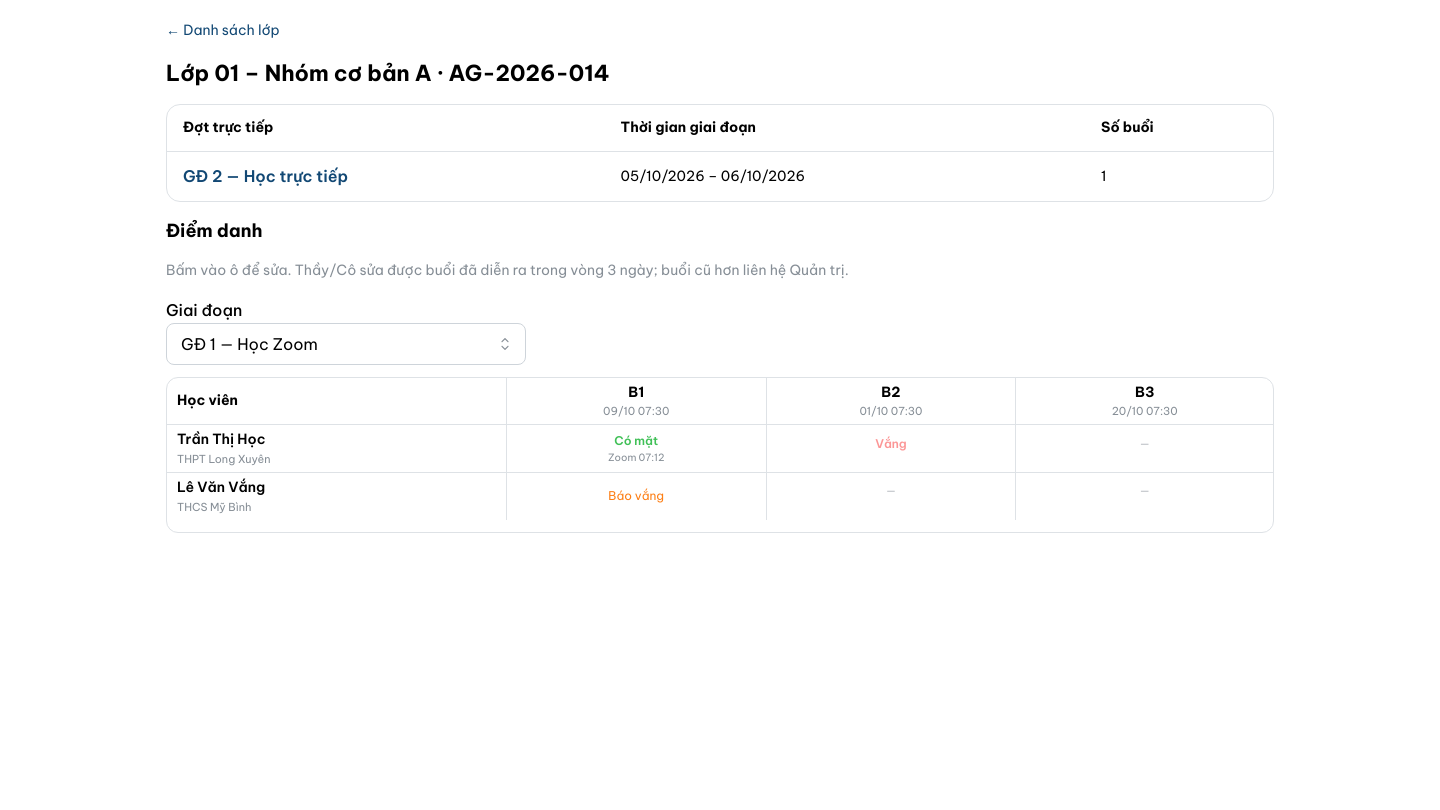
Test: Hỗ trợ GV — bảng điểm danh lớp › sửa ô có báo vắng: mặc định "Vắng có phép", lưu kèm ghi chú → thông báo + ô hiện "sửa tay"
Click the button with aria-label "Sửa điểm danh Lê Văn Vắng buổi 1".
click(636, 496)  # box x1=509 y1=478 x2=764 y2=514
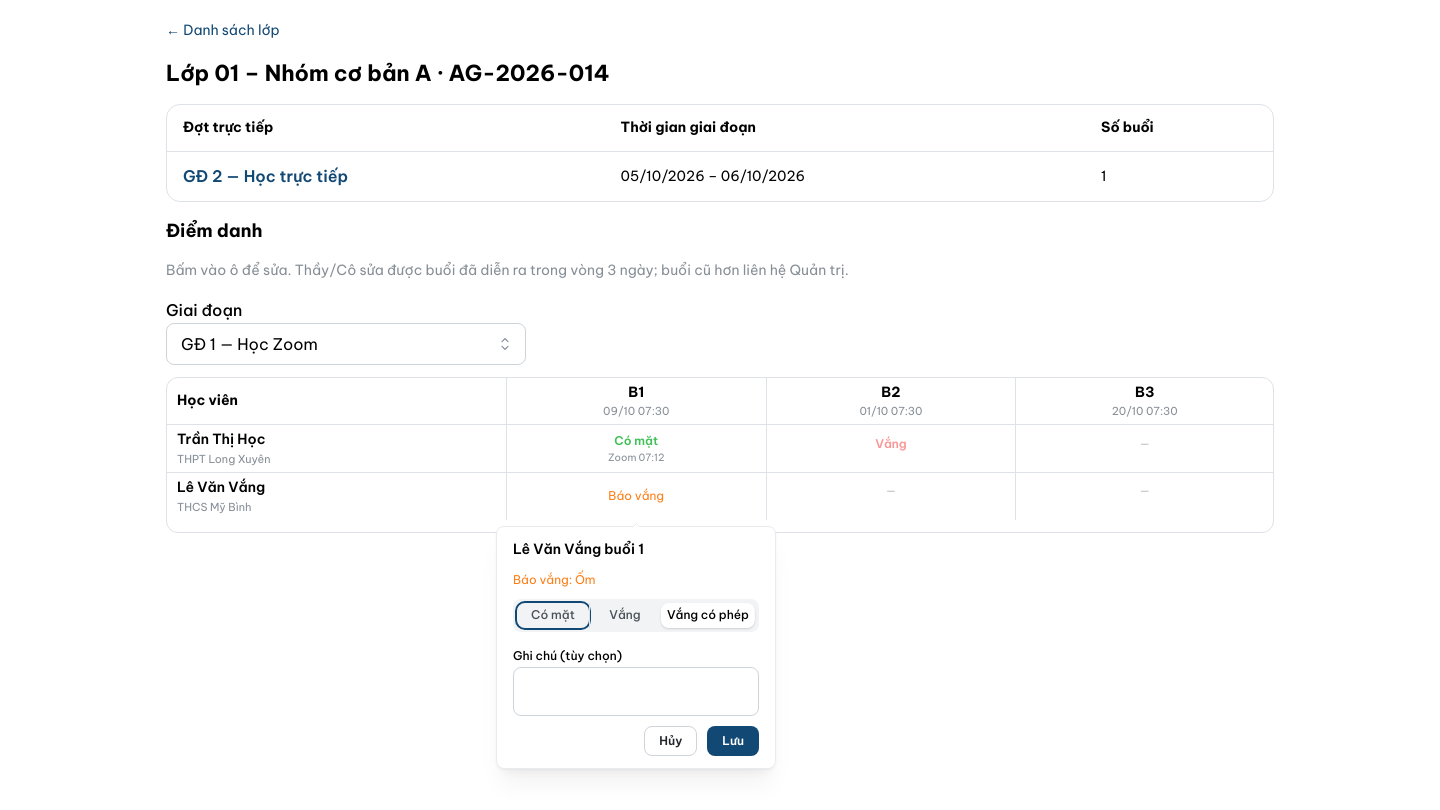
Result: the radio button labelled "Vắng có phép" is checked at x1=661 y1=603 x2=755 y2=628
Type "Có giấy phép" into the text box labelled "Ghi chú (tùy chọn)".
click(636, 691); type("Có giấy phép")  # box x1=513 y1=666 x2=759 y2=716
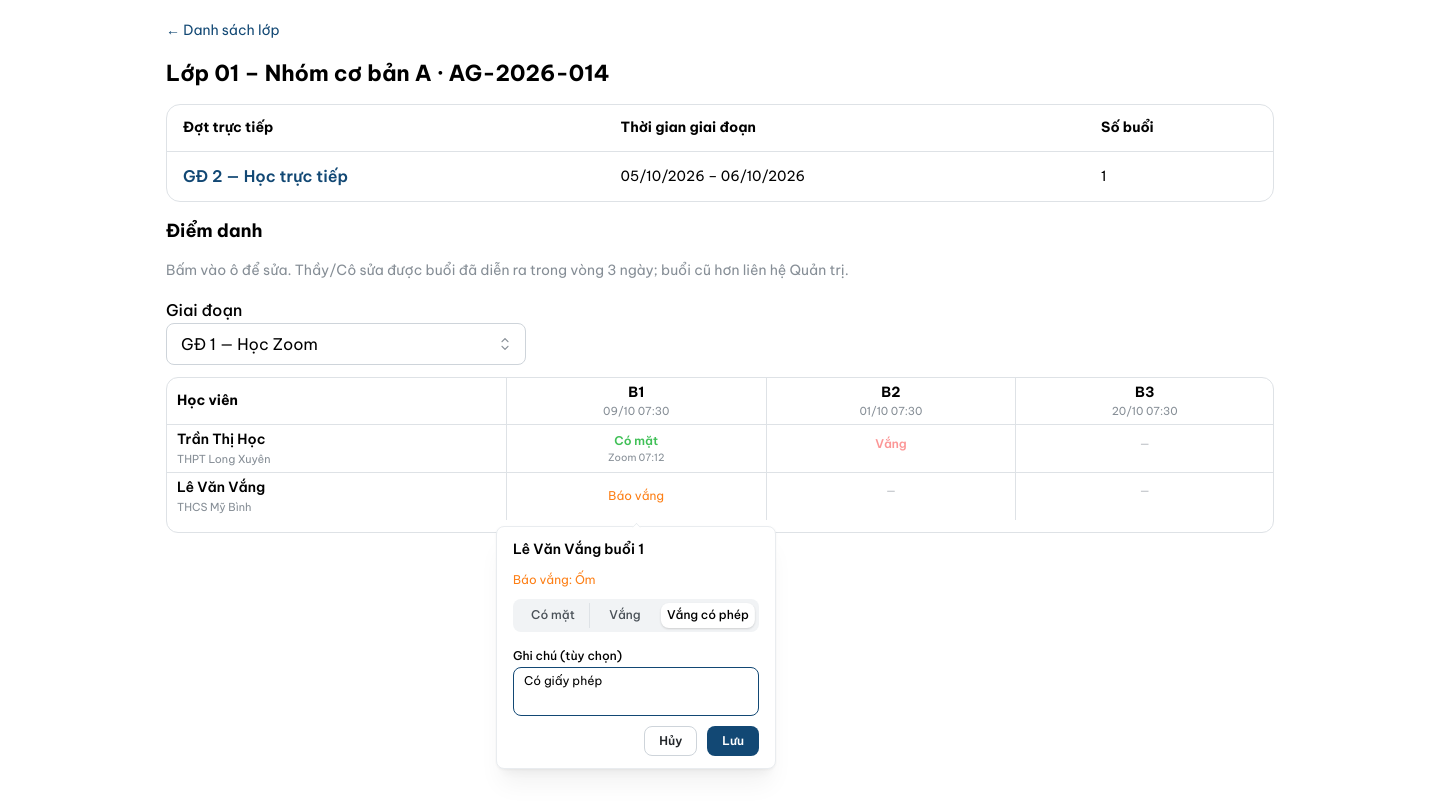
Click the button "Lưu".
click(733, 740)  # box x1=708 y1=726 x2=759 y2=756
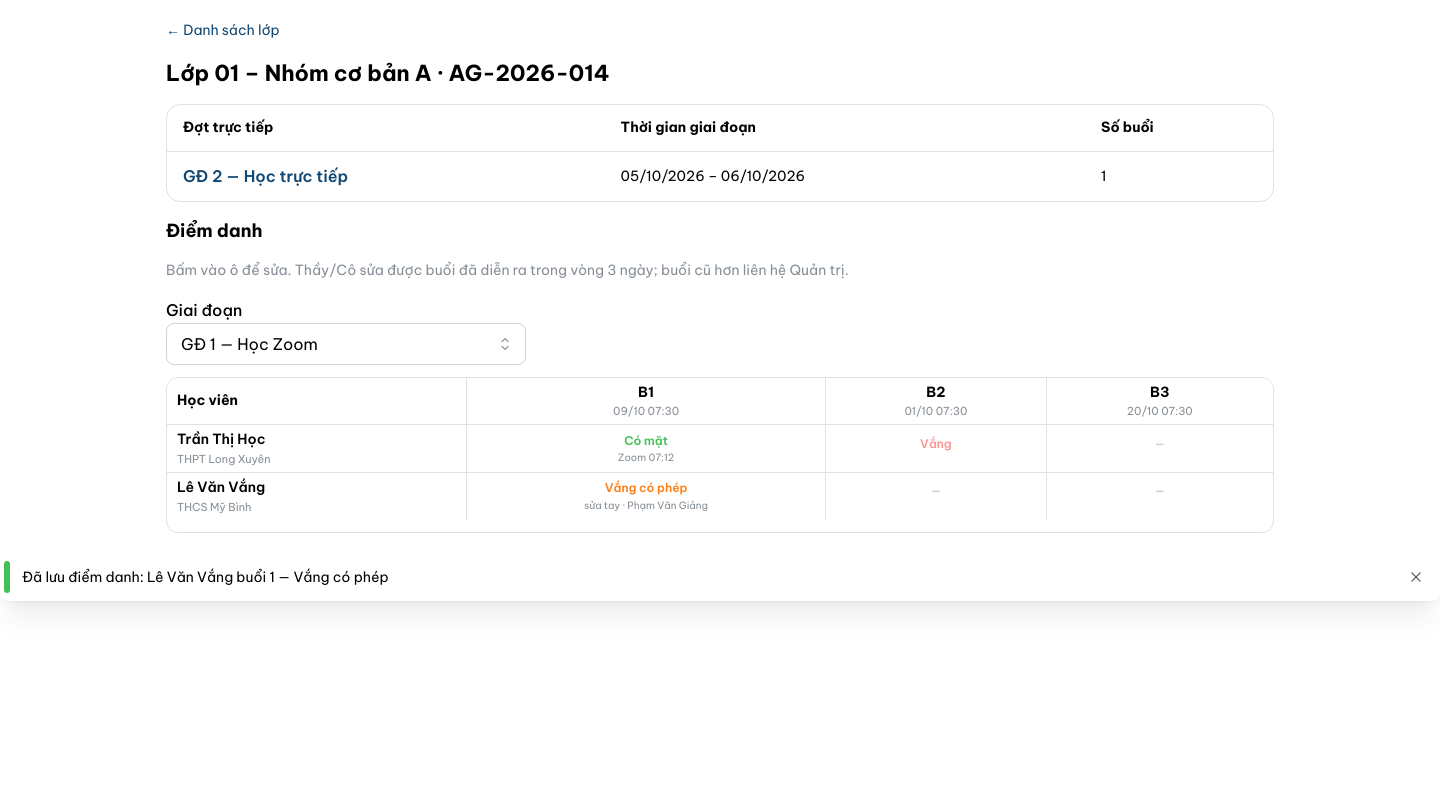
Result: the text "Đã lưu điểm danh: Lê Văn Vắng buổi 1 — Vắng có phép" is shown at x1=22 y1=568 x2=389 y2=586
Result: the text "sửa tay · Phạm Văn Giảng" is shown at x1=584 y1=499 x2=708 y2=512
